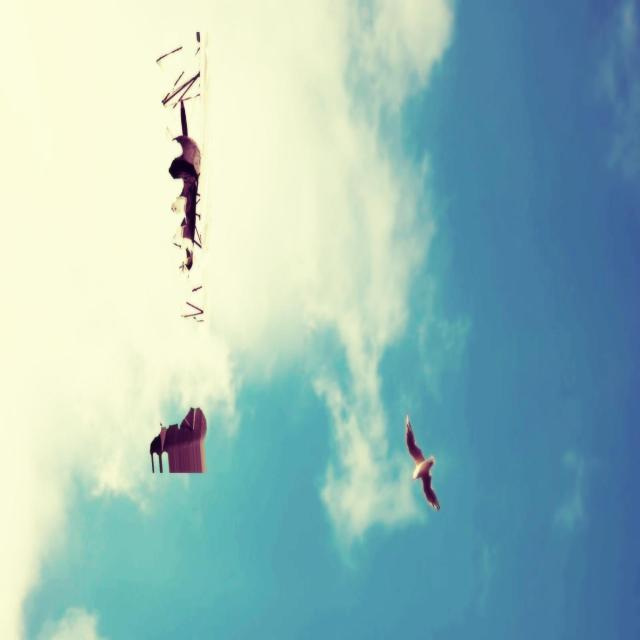airplane: (148, 27, 209, 475)
